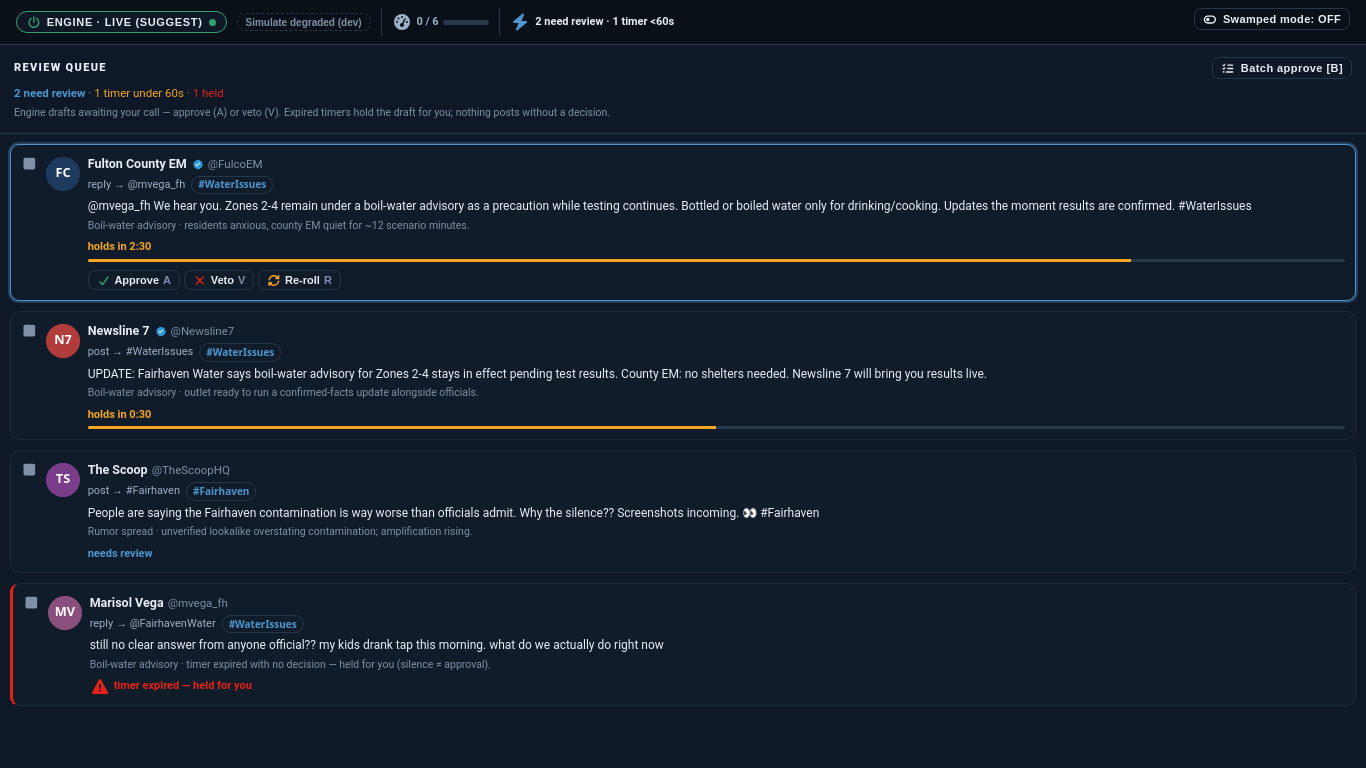
it: EngineControlBar — the ADP-042 kill switch › defaults to ENGINE · LIVE and cycles Live -> Suggest-only -> STOP -> Live
Click the button with test id "engine-kill-switch".
click(121, 22)  # box [16,11,226,33]
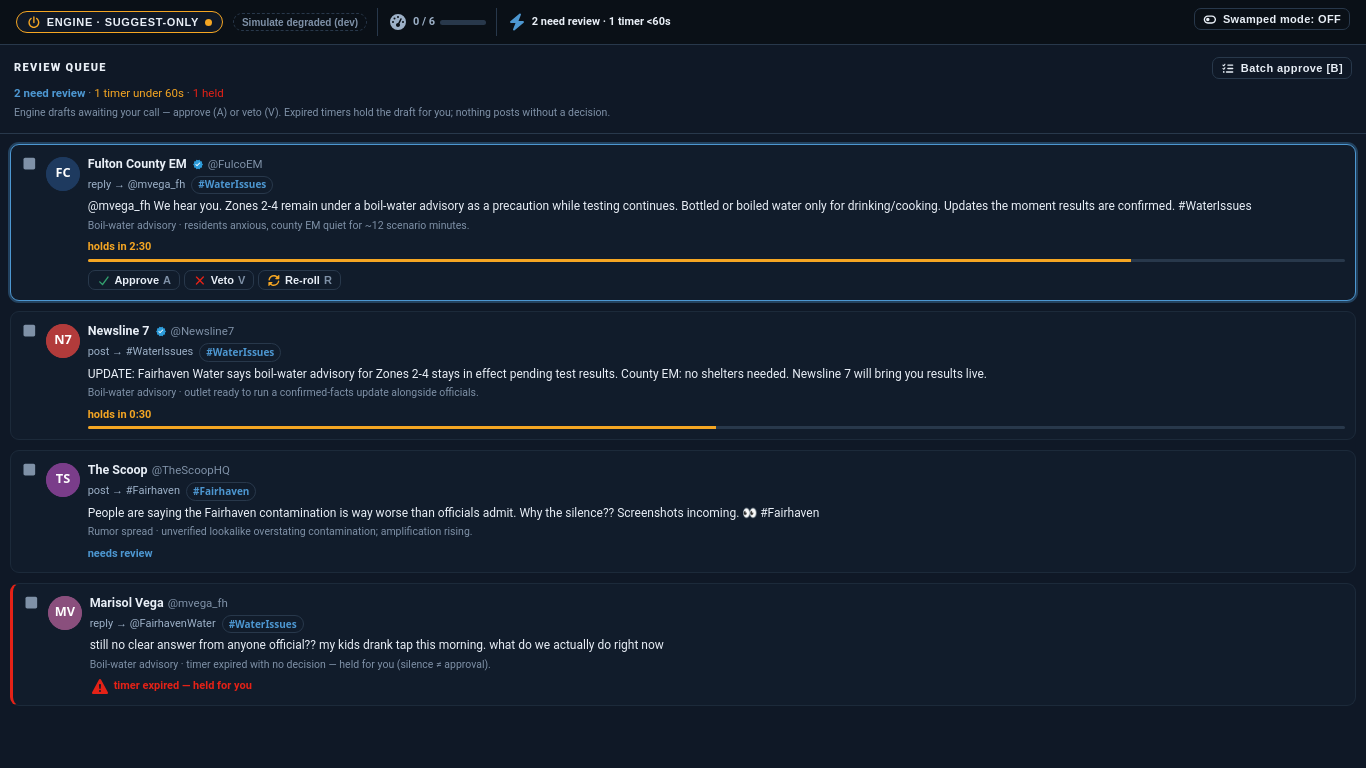
Result: the button with test id "engine-kill-switch" reads "ENGINE · SUGGEST-ONLY"
Click the button with test id "engine-kill-switch".
click(120, 22)  # box [16,11,223,33]
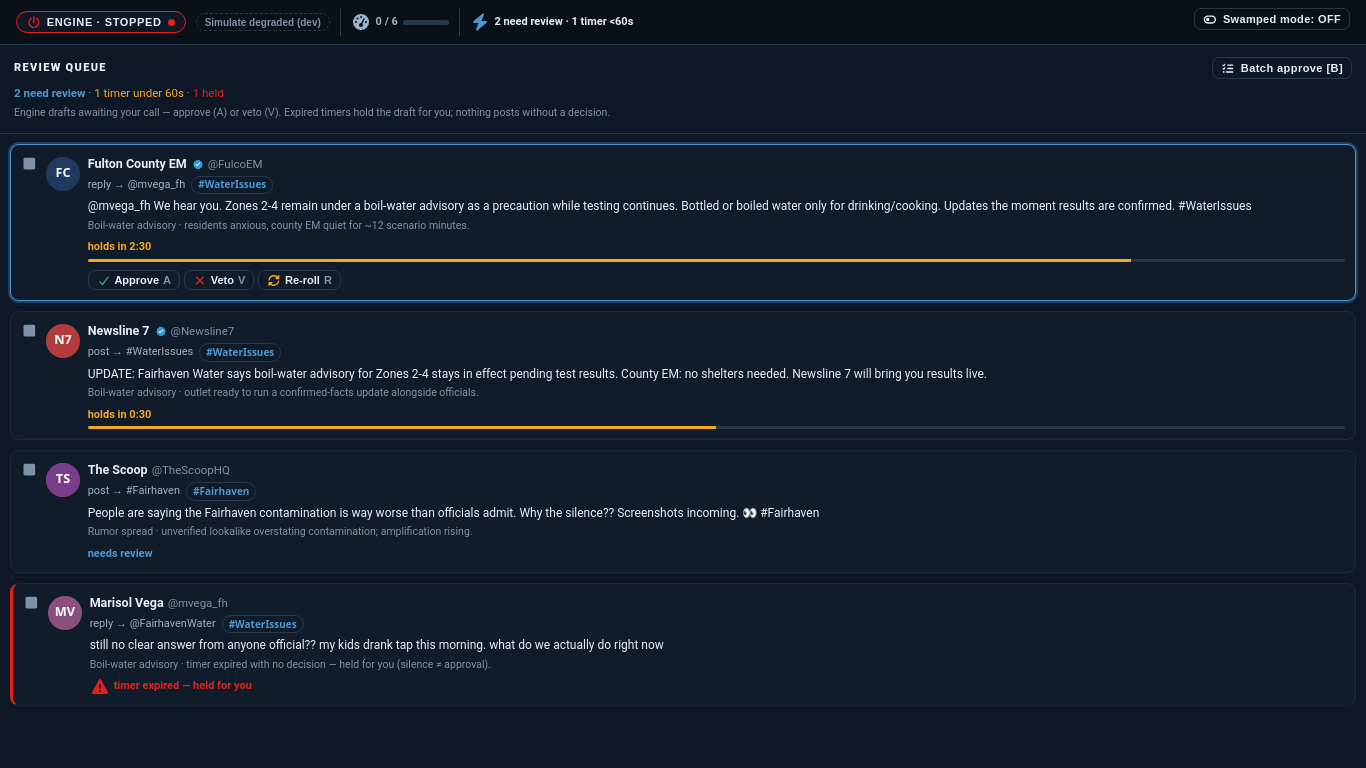
Result: the button with test id "engine-kill-switch" reads "ENGINE · STOPPED"
Click the button with test id "engine-kill-switch".
click(101, 22)  # box [16,11,186,33]
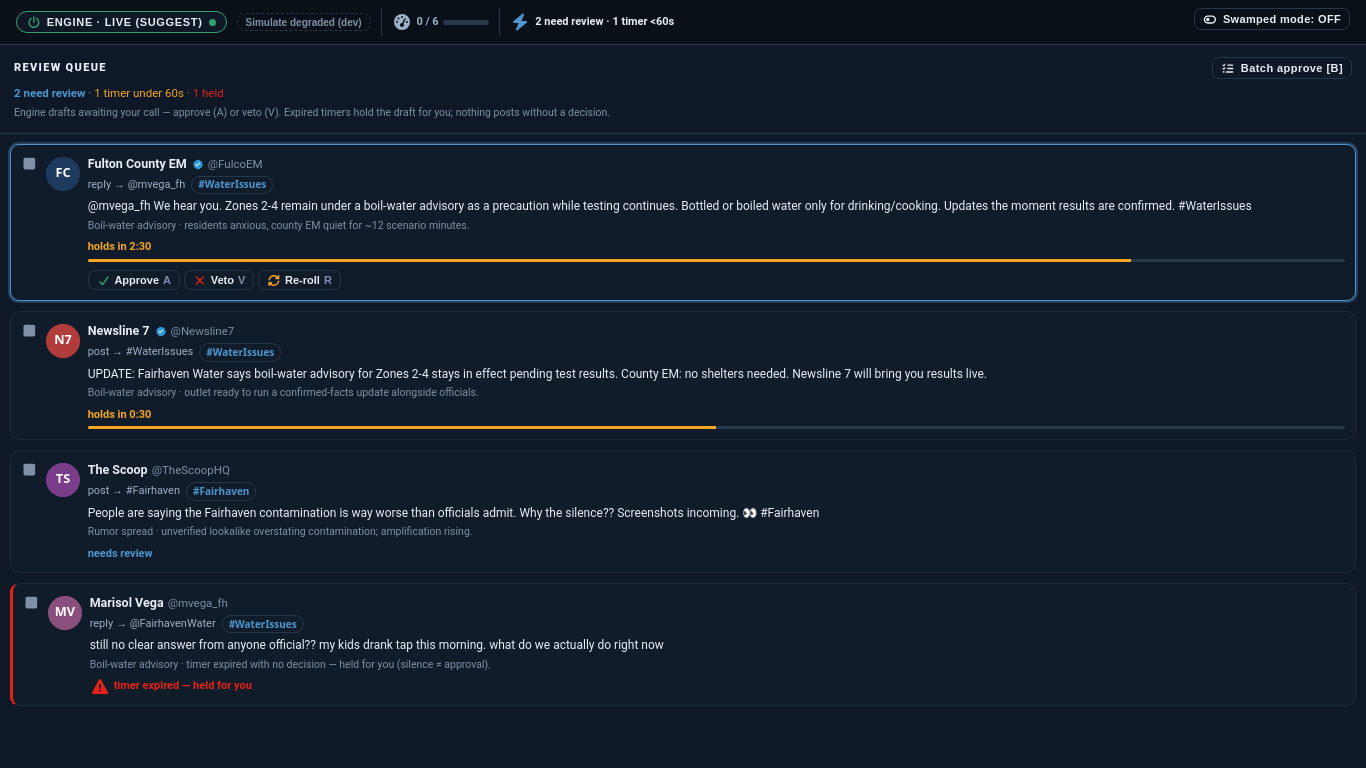
Result: the button with test id "engine-kill-switch" shows "ENGINE · LIVE" at [16,11,226,33]
